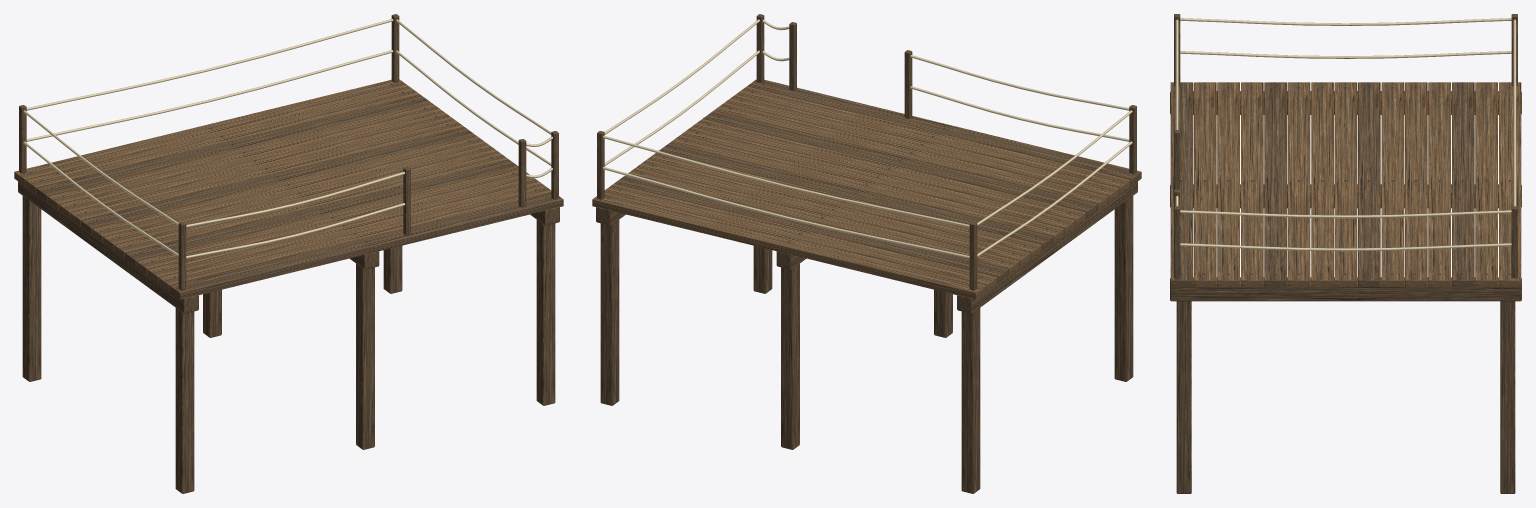
Rendered from resource_landing.glb.
The picture shows the model from 3 angles, left to right: view 1: azimuth 30°, elevation 25°; view 2: azimuth 150°, elevation 25°; view 3: azimuth 270°, elevation 25°; orthographic projection. The views are drawn at different scales.
Parts seen in each view (by area): view 1: resource_landing_mesh; view 2: resource_landing_mesh; view 3: resource_landing_mesh.
Part boxes in pixels (box(x1,y1,x2,y2)): resource_landing_mesh: box(14, 14, 563, 493); resource_landing_mesh: box(592, 14, 1141, 493); resource_landing_mesh: box(1170, 14, 1521, 493).
Size of the model in its own units: 4 by 2.7 by 3.
Materials: 4 (2 with a texture image).
